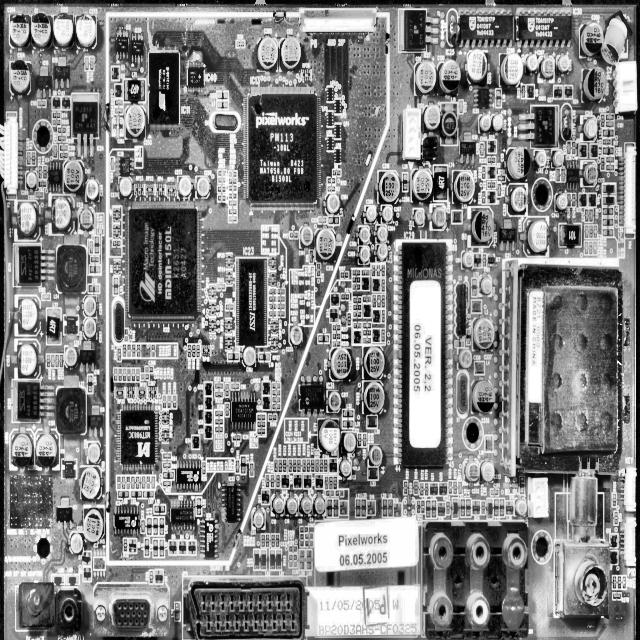PCB: (1, 0, 636, 640)
